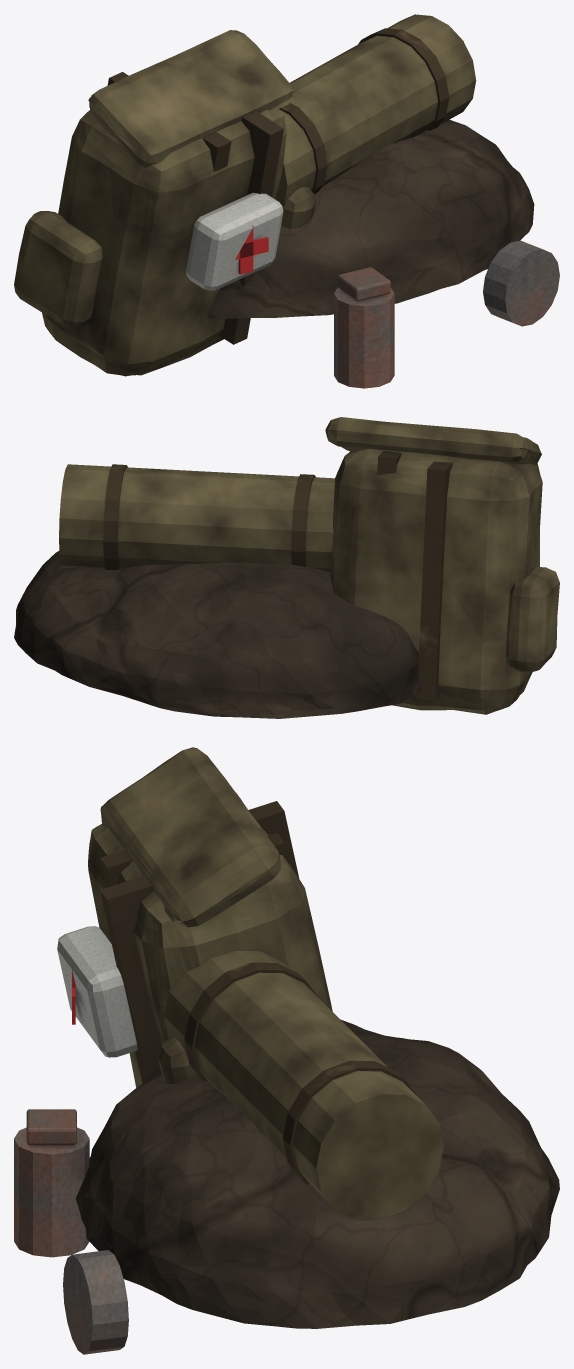
The model's file is poi_miner_pack.glb.
3 renders of one model, top to bottom at view 1: azimuth 30°, elevation 25°; view 2: azimuth 150°, elevation 25°; view 3: azimuth 270°, elevation 25°, orthographic. The views are drawn at different scales.
Parts seen in each view (by area): view 1: poi_miner_pack; view 2: poi_miner_pack; view 3: poi_miner_pack.
Boxes of the visible parts, left/top/right/bottom form: poi_miner_pack: left=14, top=14, right=559, bottom=388; poi_miner_pack: left=14, top=417, right=559, bottom=718; poi_miner_pack: left=14, top=747, right=559, bottom=1354.
Bounding box in the file's own units: 1.19 × 0.6434 × 0.8658.
6 materials, 6 textured.
